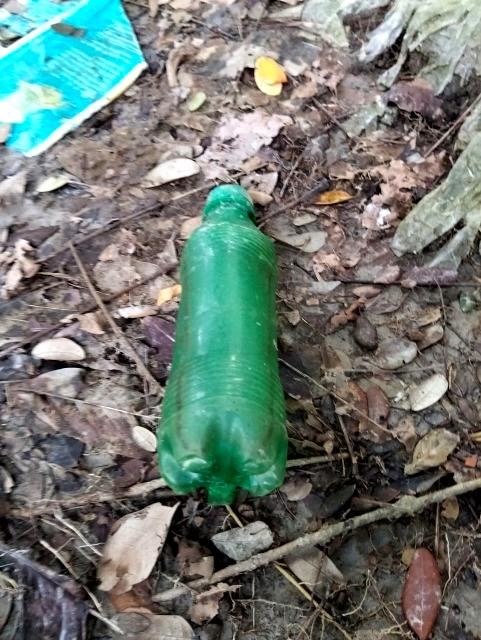bottle: (174, 191, 293, 508)
